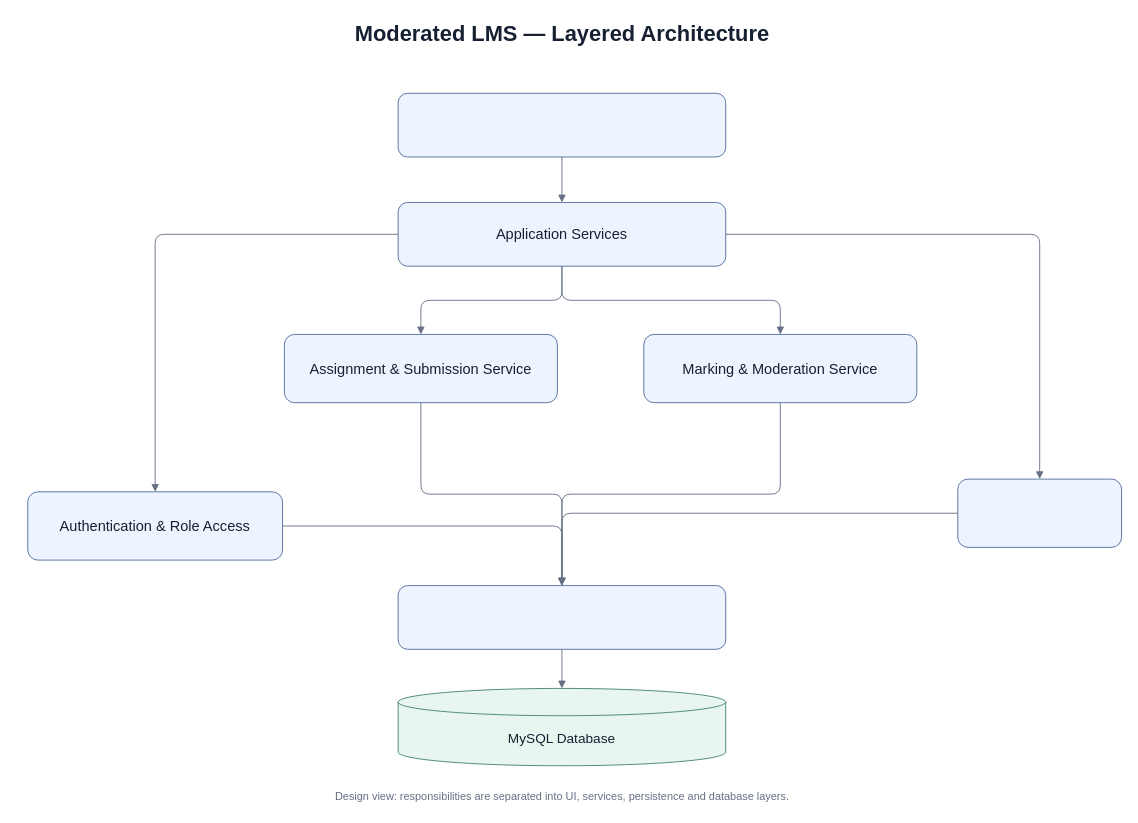
The diagram is 1138 pixels wide and 823 high, and some of its shapes have lost their labels. Here are the shapes that lost their labels. From the top down, the box of each, then its label:
(397, 92, 726, 157): Console / Simple Desktop UI
(957, 478, 1122, 547): Audit Service
(397, 585, 726, 649): Repository / DAO Layer
